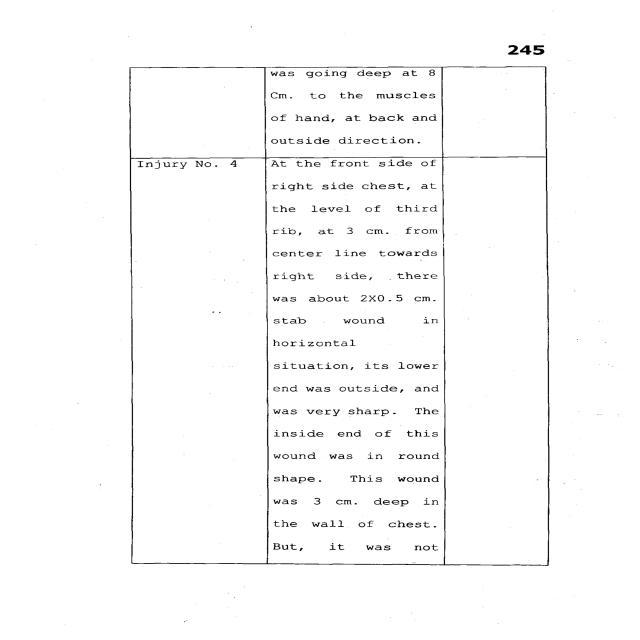page-number: (426, 0, 632, 60)
